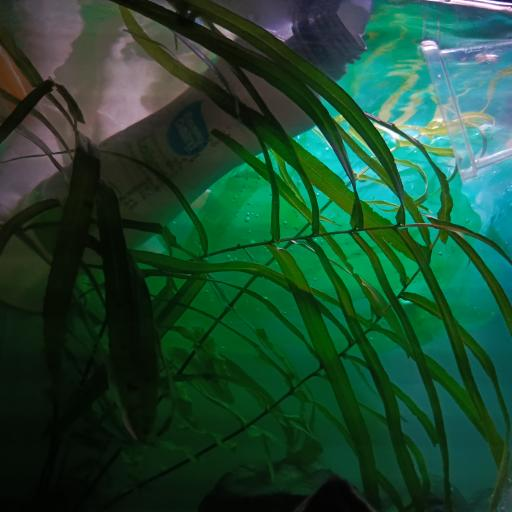plastic_bag: (70, 160, 487, 354)
plastic_bottle: (0, 13, 366, 309)
plastic_cup: (419, 39, 512, 185)
plastic_straw: (0, 41, 32, 114)
